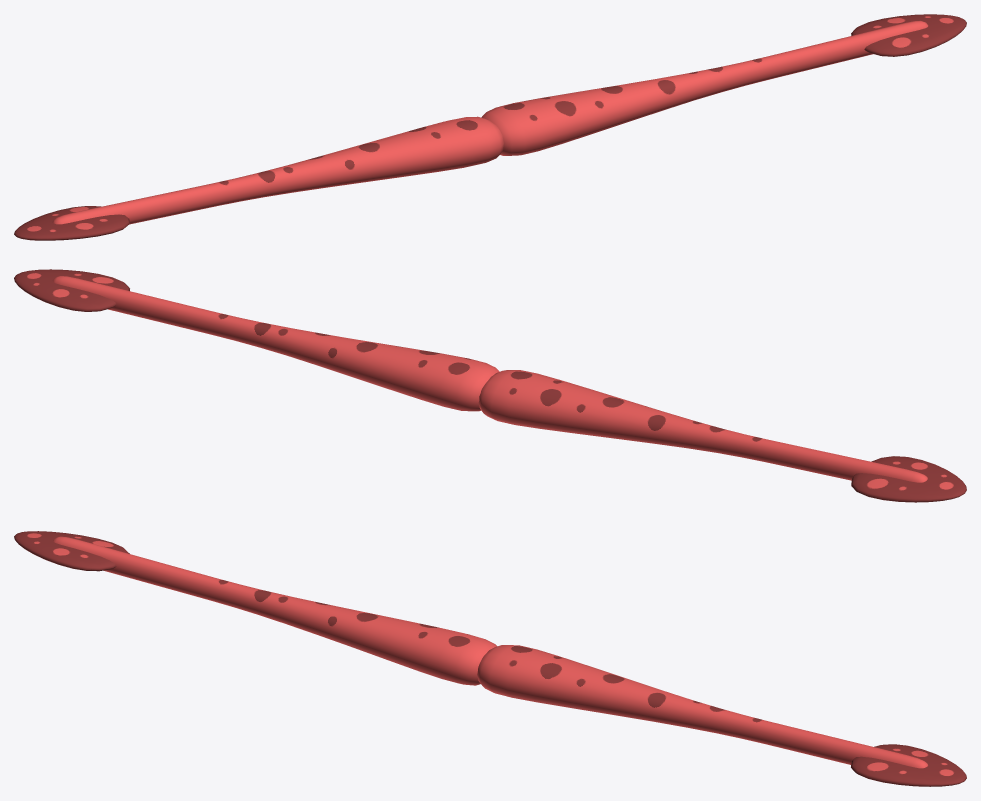
Rendered from ARMS.fbx.
3 views of the same model, one above another, from view 1: azimuth 30°, elevation 25°; view 2: azimuth 150°, elevation 25°; view 3: azimuth 330°, elevation 25° (orthographic).
Visible parts, largest first — view 1: LEFTARM, RIGHTARM, LEFTHAND, RIGHT HAND; view 2: RIGHTARM, LEFTARM, RIGHT HAND, LEFTHAND; view 3: LEFTARM, RIGHTARM, LEFTHAND, RIGHT HAND.
Boxes of the visible parts, bbox=[...] form: LEFTARM: bbox=[481, 20, 928, 155]; RIGHTARM: bbox=[52, 116, 503, 224]; LEFTHAND: bbox=[851, 14, 966, 56]; RIGHT HAND: bbox=[14, 206, 129, 240]; RIGHTARM: bbox=[478, 370, 927, 482]; LEFTARM: bbox=[53, 276, 499, 411]; RIGHT HAND: bbox=[851, 456, 966, 502]; LEFTHAND: bbox=[14, 269, 129, 311]; LEFTARM: bbox=[477, 645, 927, 768]; RIGHTARM: bbox=[53, 536, 497, 685]; LEFTHAND: bbox=[851, 744, 966, 786]; RIGHT HAND: bbox=[14, 531, 129, 571].
Bounding box in the file's own units: 7743 × 338 × 605.
